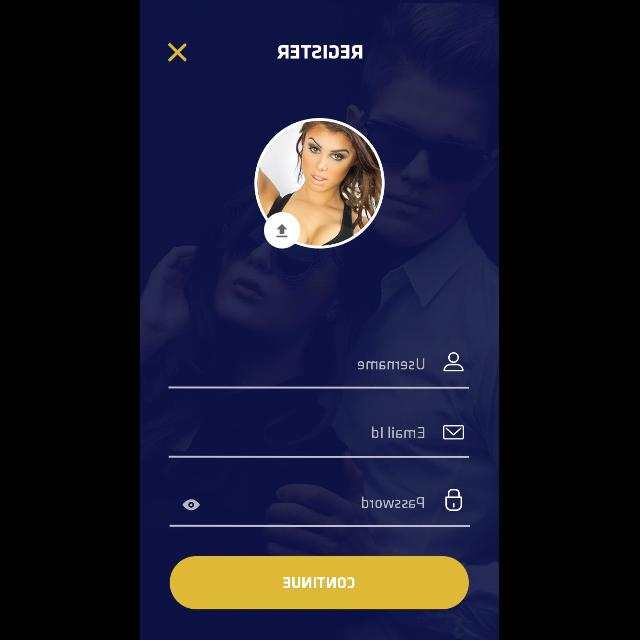backgroundimage: (140, 1, 500, 640)
icon: (444, 352, 464, 372), (446, 488, 462, 512), (168, 44, 186, 62), (444, 424, 464, 440), (183, 500, 201, 510)
image: (255, 118, 385, 250)
input: (170, 488, 470, 528), (168, 353, 470, 389), (168, 425, 470, 459)
text: (277, 45, 363, 59), (358, 358, 426, 369), (363, 498, 425, 508), (372, 428, 426, 438)
textbutton: (170, 556, 470, 610)
